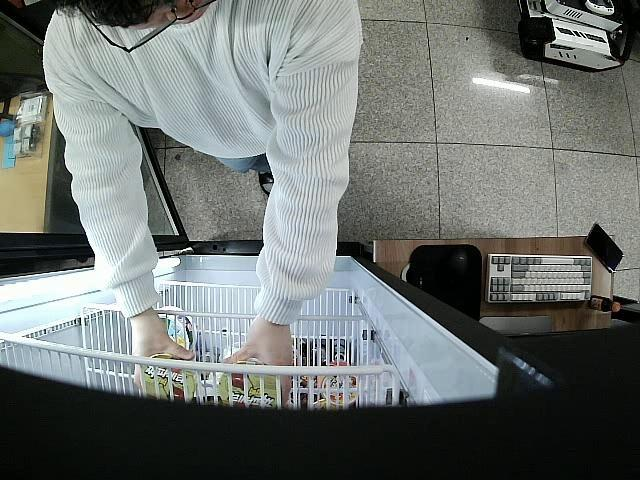04_chapagetti_S: (218, 360, 279, 414), (140, 354, 196, 404)
